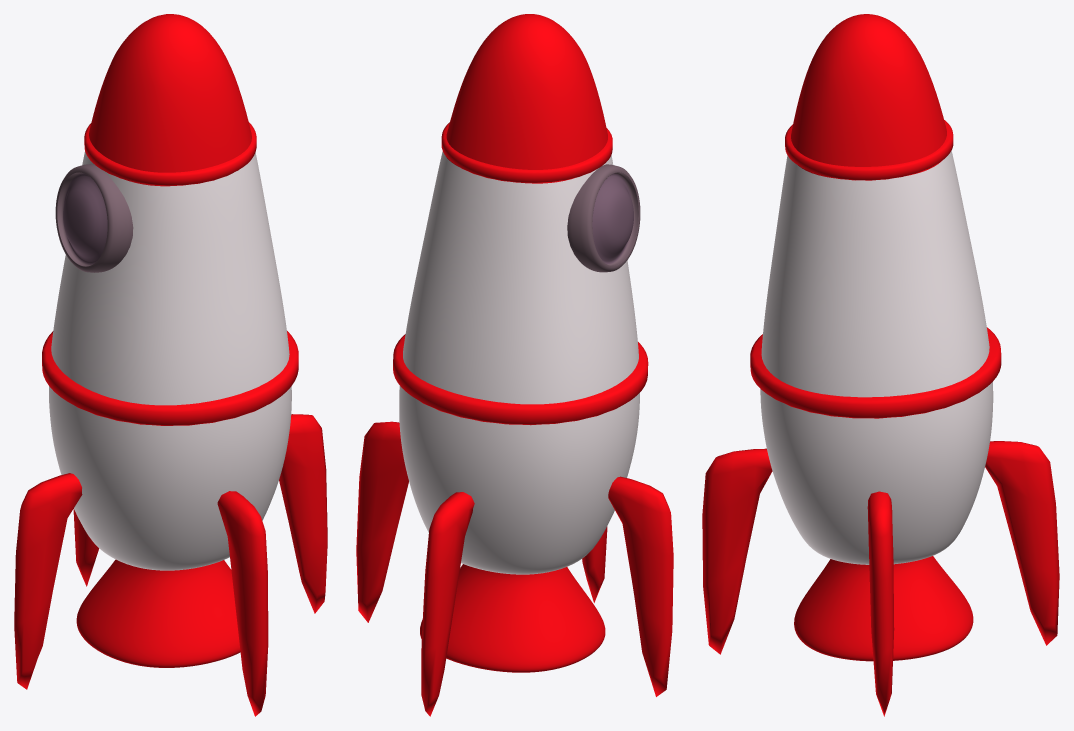
The model's file is RocketshipAlt.fbx.
The picture shows the model from 3 angles, left to right: view 1: azimuth 30°, elevation 25°; view 2: azimuth 150°, elevation 25°; view 3: azimuth 270°, elevation 25°; orthographic projection. The views are drawn at different scales.
Visible parts, largest first — view 1: window; view 2: window; view 3: window.
Part boxes in pixels (bbox=[...]): window: bbox=[14, 14, 327, 716]; window: bbox=[356, 14, 673, 716]; window: bbox=[702, 14, 1059, 716].
Bounding box in the file's own units: 144 × 282 × 145.
